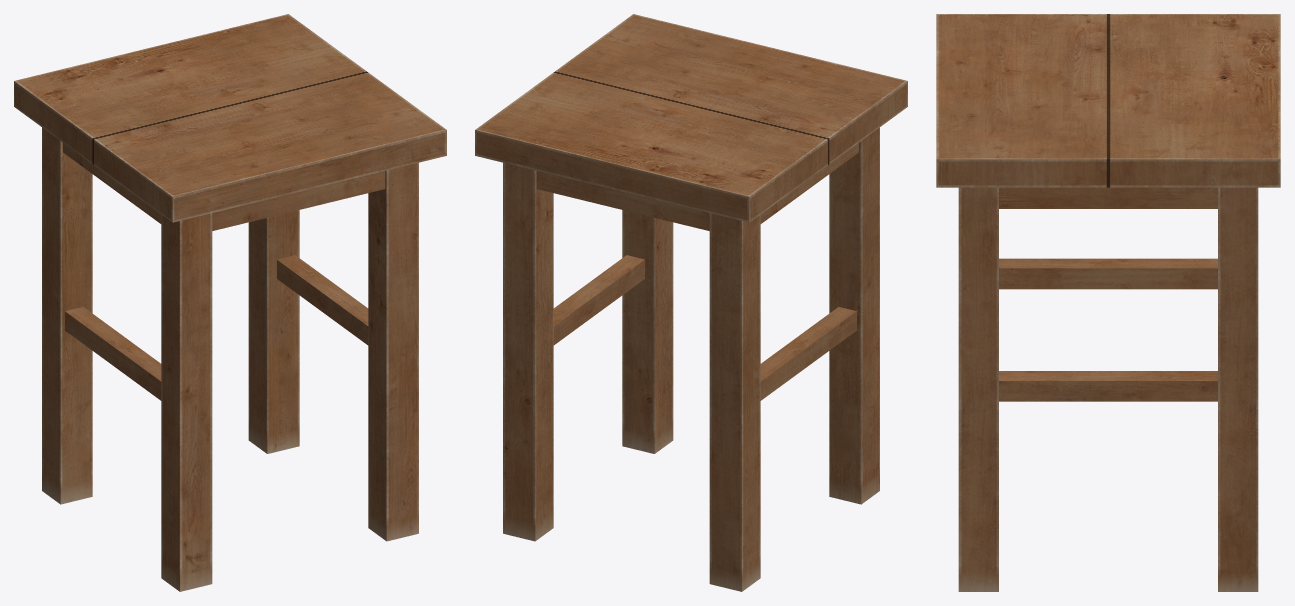
File: wooden_stool.glb
3 renders of one model, left to right at view 1: azimuth 30°, elevation 25°; view 2: azimuth 150°, elevation 25°; view 3: azimuth 270°, elevation 25°, orthographic. The views are drawn at different scales.
Visible parts, largest first — view 1: Wooden Stool; view 2: Wooden Stool; view 3: Wooden Stool.
Boxes of the visible parts, x1,y1,x2,y2 form: Wooden Stool: (14, 14, 446, 591); Wooden Stool: (475, 14, 907, 591); Wooden Stool: (936, 14, 1280, 591).
Size of the model in its own units: 29.87 by 42.32 by 29.87.
Materials: 1 (1 with a texture image).
